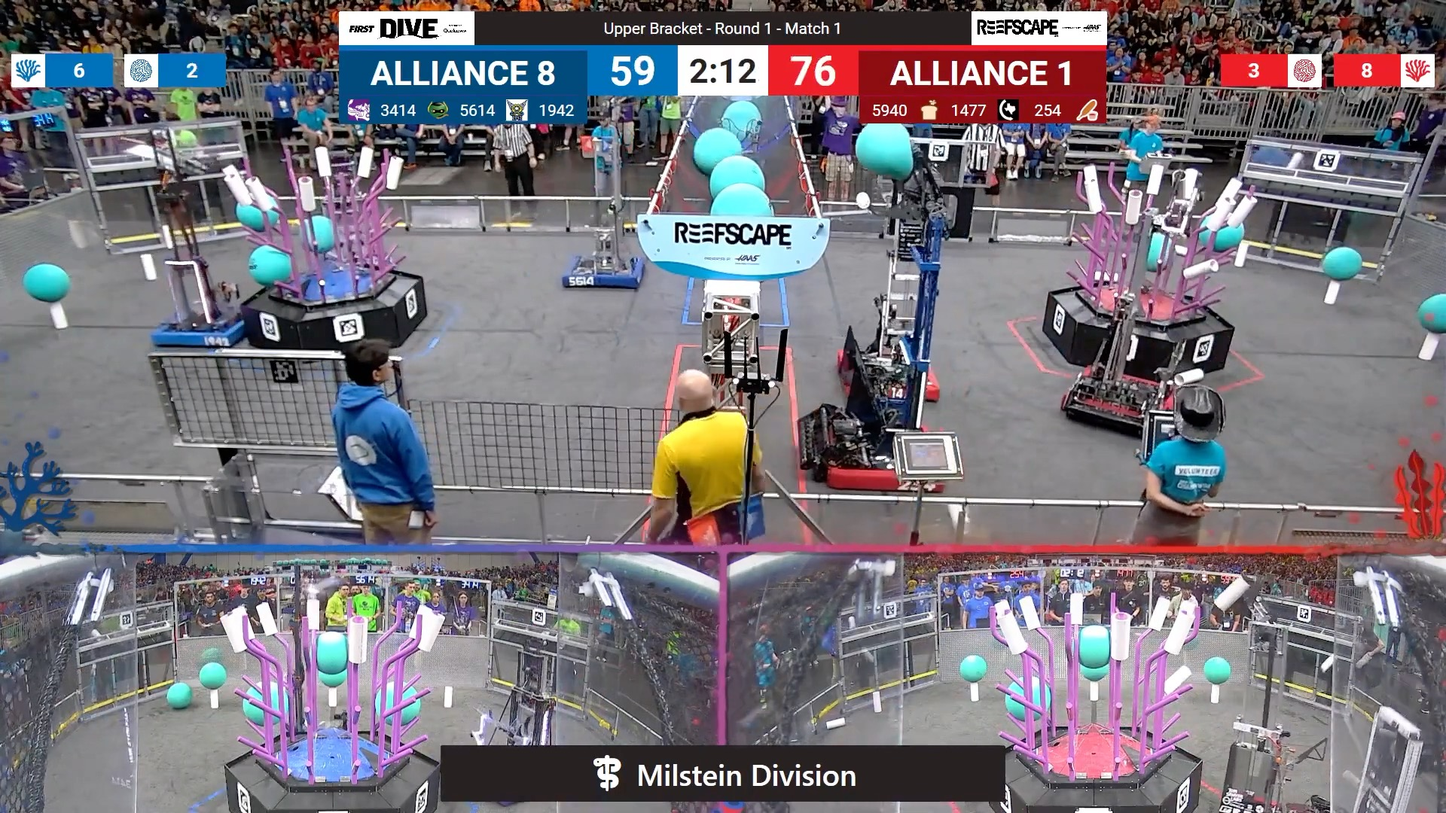bumpers: (799, 407, 953, 499), (1057, 362, 1190, 443), (829, 347, 953, 402), (146, 302, 256, 351), (558, 251, 652, 294)
